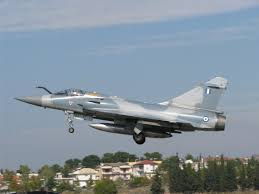fighter: (13, 71, 234, 142)
